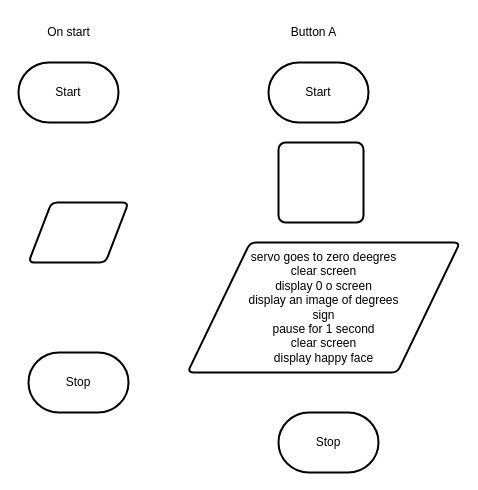
Some shapes in this 478 by 490 pixel diagram are drawn without their labels. Each missing label, with the centre of its shape:
"display happy face" belongs at (x=78, y=232).
"Set servo to 0 deegres" belongs at (x=320, y=182).
